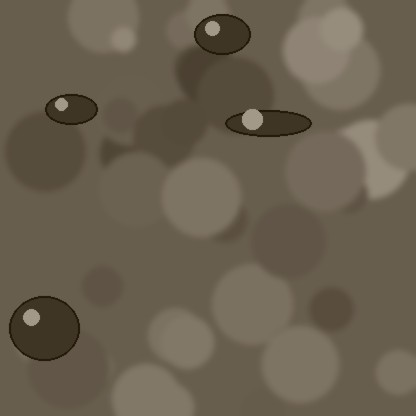gota: (9, 298, 79, 366), (225, 111, 311, 139), (194, 16, 250, 58), (45, 95, 97, 127)
